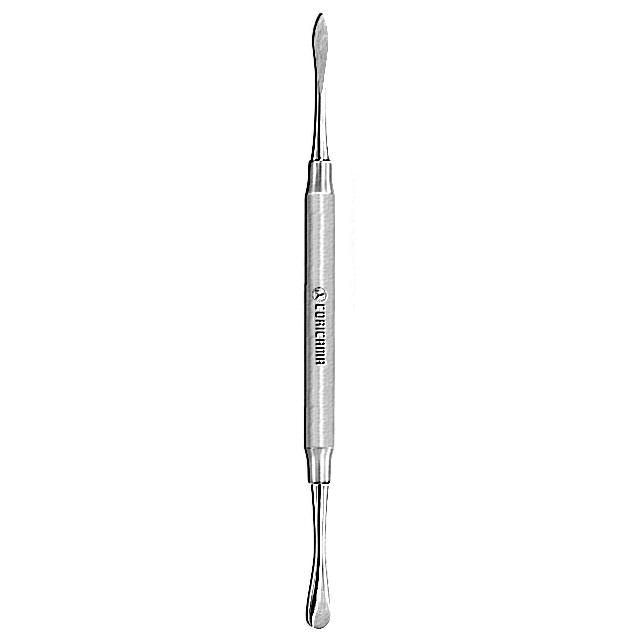elevador: (302, 12, 342, 633)
